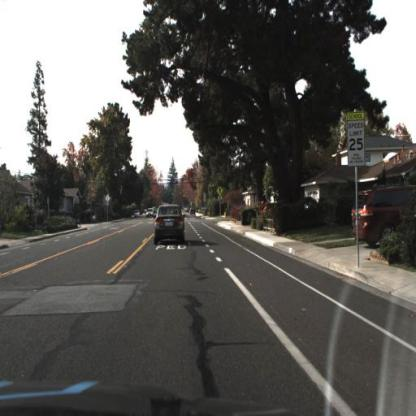car: (352, 186, 416, 254), (153, 205, 187, 246)
